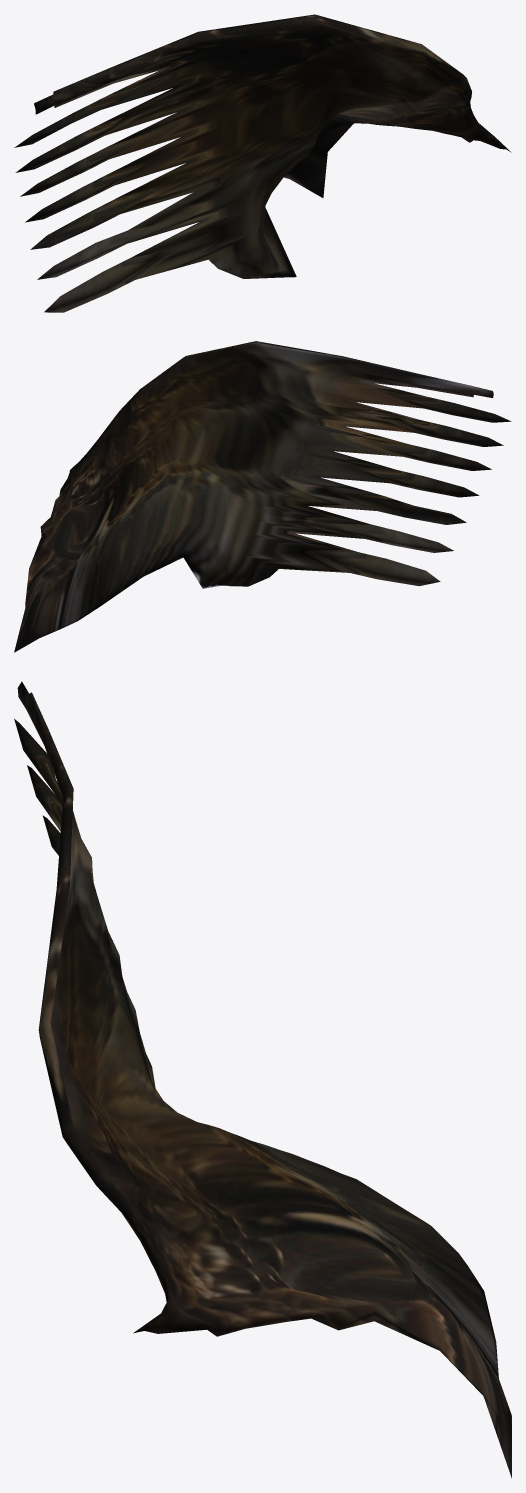
Rendered from alaDerecha.fbx.
3 views of the same model, one above another, from view 1: azimuth 30°, elevation 25°; view 2: azimuth 150°, elevation 25°; view 3: azimuth 270°, elevation 25° (orthographic). The views are drawn at different scales.
Visible parts, largest first — view 1: Flugel.002; view 2: Flugel.002; view 3: Flugel.002.
Part boxes in pixels (x1,y1,x2,y2): Flugel.002: [14, 14, 511, 312]; Flugel.002: [14, 341, 511, 652]; Flugel.002: [14, 681, 511, 1478].
Bounding box in the file's own units: 520 × 319 × 291.
